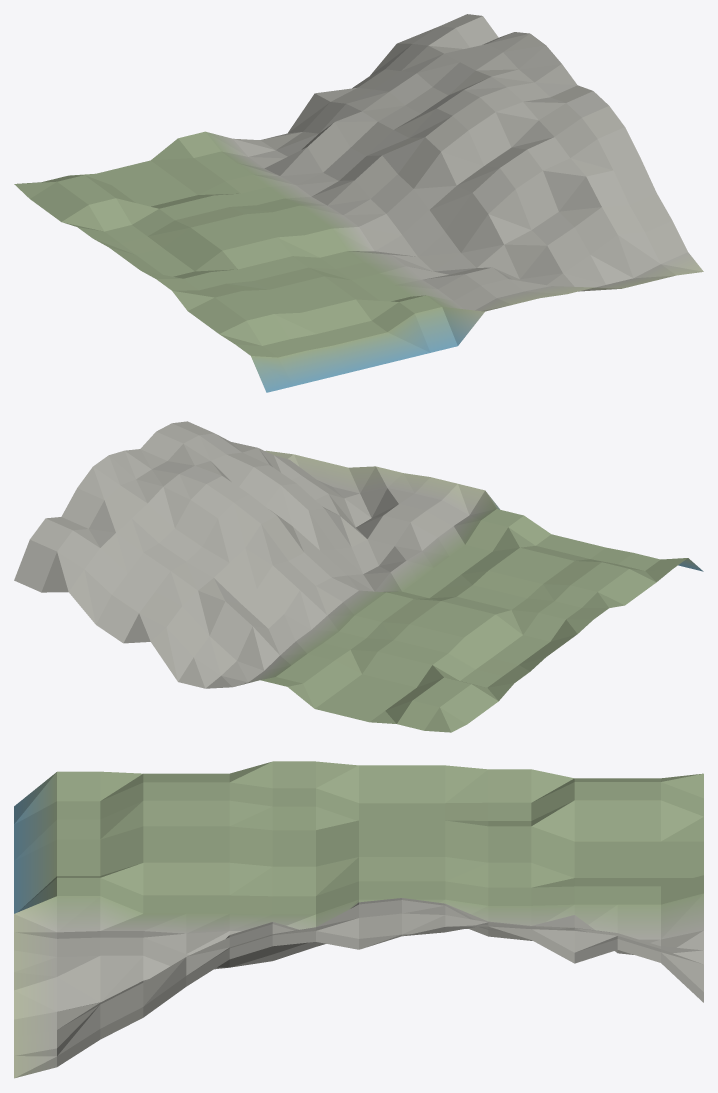
3 views of the same model, one above another, from view 1: azimuth 30°, elevation 25°; view 2: azimuth 150°, elevation 25°; view 3: azimuth 270°, elevation 25° (orthographic). The views are drawn at different scales.
Size of the model in its own units: 32 by 8.78 by 32.
